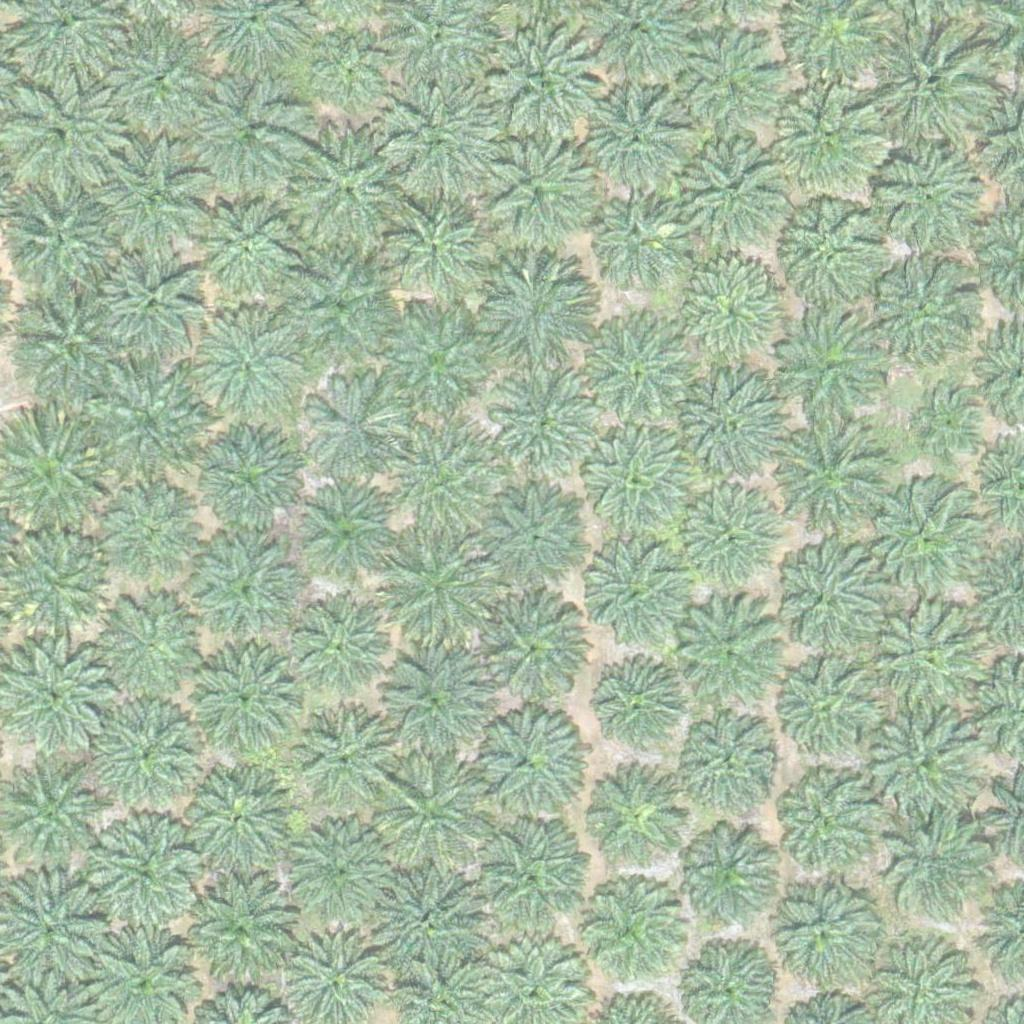Kelapa_Sawit: (292, 129, 417, 255), (101, 24, 214, 138), (580, 427, 693, 541), (474, 482, 587, 596), (767, 871, 880, 985), (97, 249, 210, 362), (94, 145, 207, 258), (193, 429, 306, 542), (384, 81, 497, 194), (478, 258, 591, 371), (481, 138, 594, 251), (486, 34, 599, 147), (583, 317, 696, 430), (871, 481, 984, 594), (877, 31, 990, 144), (672, 597, 785, 710), (378, 751, 491, 864), (370, 864, 483, 977), (183, 640, 296, 753), (1, 636, 114, 749), (195, 79, 307, 193), (283, 258, 395, 372), (378, 309, 490, 423), (492, 368, 604, 482), (474, 590, 586, 704), (469, 703, 581, 817), (383, 529, 495, 643), (5, 187, 117, 300), (12, 285, 124, 398), (94, 372, 206, 485), (382, 429, 494, 542), (578, 79, 690, 192), (670, 373, 782, 486), (676, 256, 788, 369), (677, 142, 789, 255), (775, 312, 887, 425), (770, 426, 882, 539), (876, 606, 988, 719), (872, 708, 984, 821), (771, 537, 883, 650), (769, 647, 881, 760), (576, 877, 688, 990), (474, 815, 586, 928), (376, 648, 488, 761), (179, 761, 291, 874), (186, 879, 298, 992), (92, 588, 204, 701), (93, 698, 205, 811), (91, 814, 203, 927), (201, 314, 301, 415), (295, 485, 395, 586), (588, 183, 688, 284), (676, 26, 776, 127), (778, 92, 878, 193), (781, 201, 881, 302), (873, 259, 973, 360), (879, 146, 979, 247), (881, 815, 981, 916), (777, 770, 877, 871), (588, 544, 688, 645), (288, 596, 388, 697), (292, 703, 392, 804), (290, 820, 390, 921), (196, 538, 296, 639), (99, 481, 199, 582), (5, 531, 105, 632), (194, 197, 294, 297), (301, 382, 401, 482), (387, 193, 487, 293), (683, 488, 783, 588), (683, 716, 783, 816), (677, 825, 777, 925), (592, 658, 692, 758), (593, 768, 693, 868), (316, 36, 391, 112), (910, 386, 985, 461)
